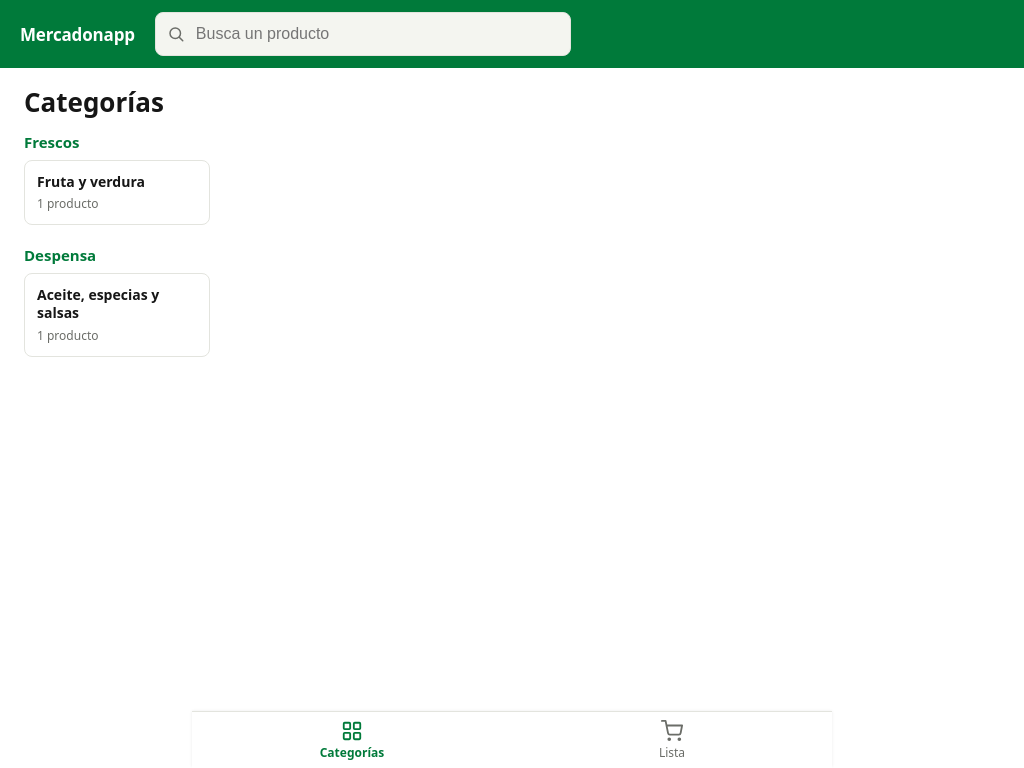
it: App — a product › opens from the results and steps the phone navigation aside
Check: the button "Fruta y verdura 1 producto" is shown, box left=24, top=160, right=210, bottom=225
Type "platano" into the search field named "Buscar producto". click: (363, 34)
box: left=155, top=12, right=571, bottom=56
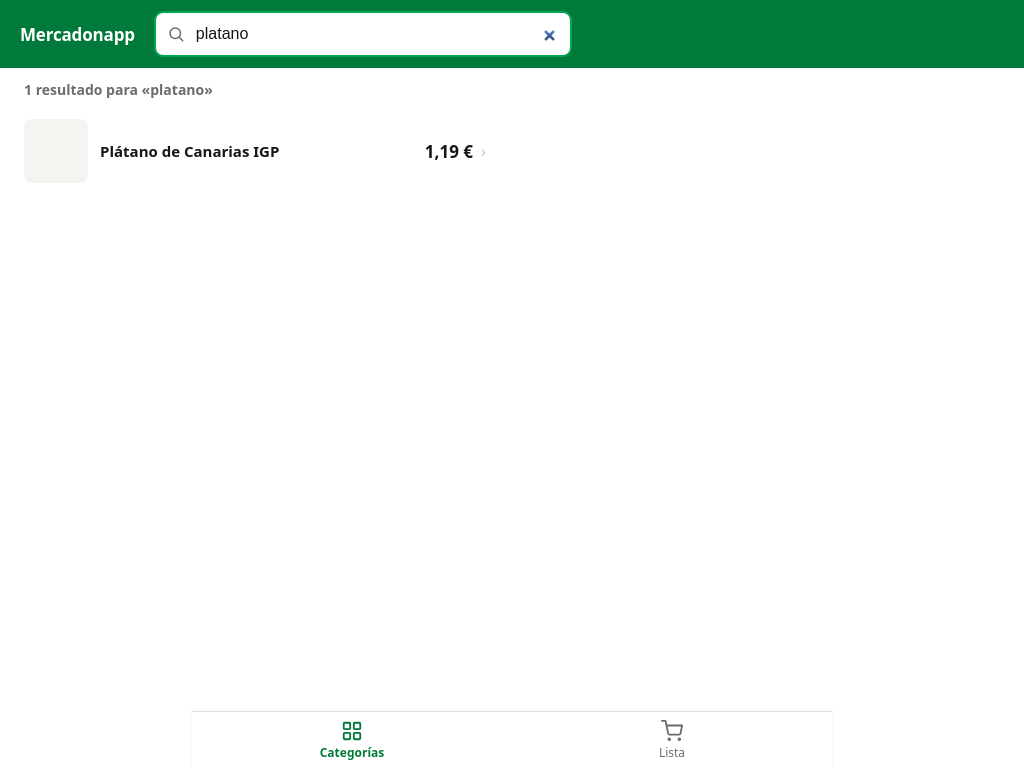
Click the button "Plátano de Canarias IGP 1,19 € ›". click: click(255, 151)
box: left=16, top=107, right=494, bottom=195
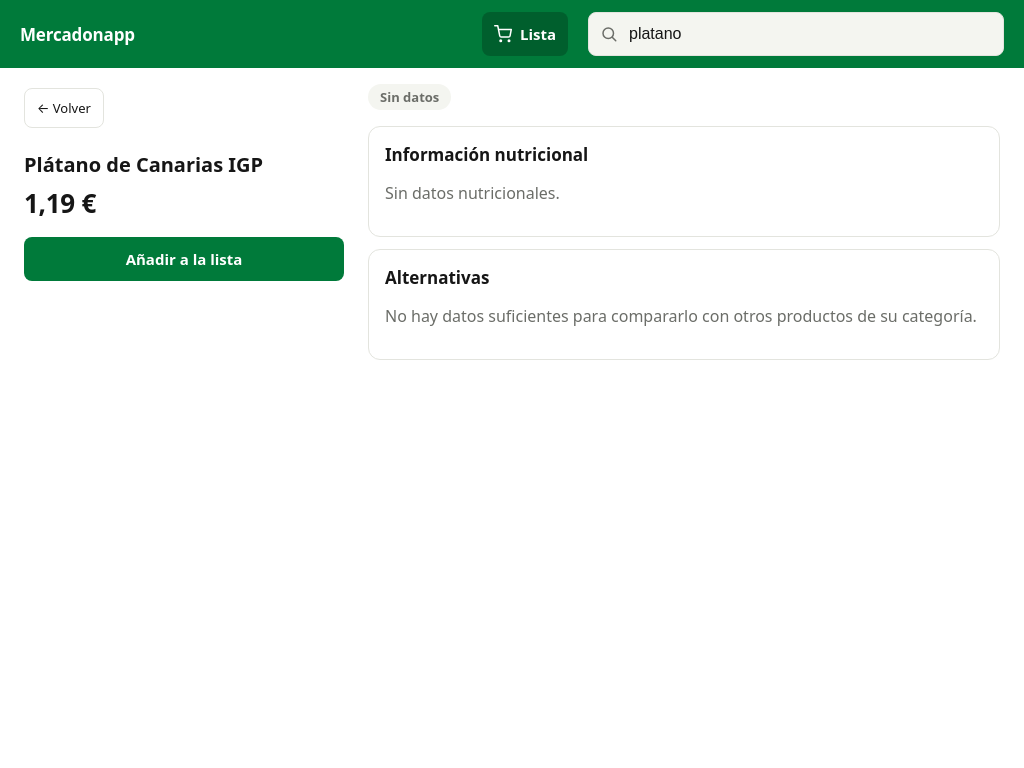
Check: the heading "Plátano de Canarias IGP" is shown, box left=24, top=151, right=263, bottom=178
Check: the navigation bar "Secciones" is gone
